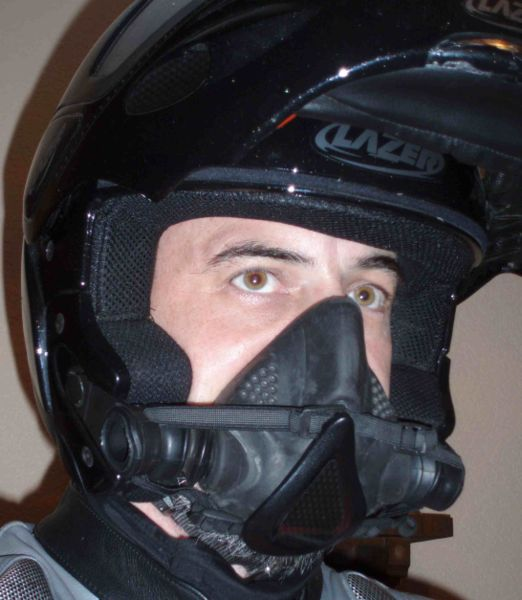helmet: (5, 35, 501, 498)
